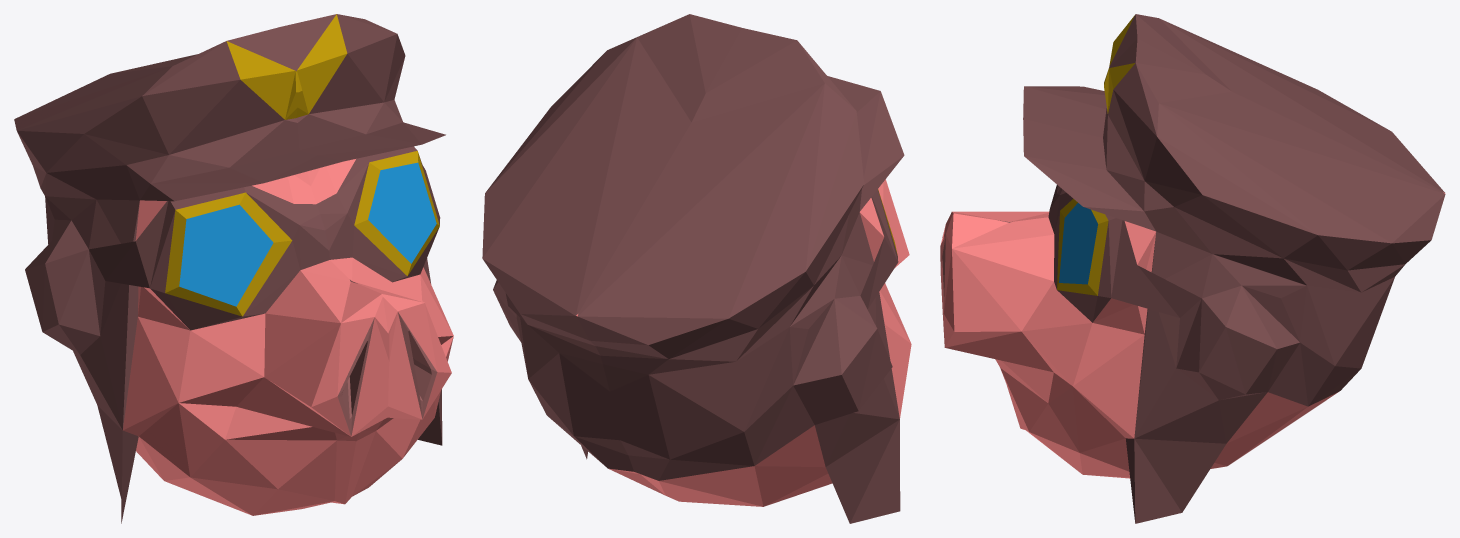
Rendered from cerdopro.fbx.
The picture shows the model from 3 angles, left to right: view 1: azimuth 30°, elevation 25°; view 2: azimuth 150°, elevation 25°; view 3: azimuth 270°, elevation 25°; orthographic projection. The views are drawn at different scales.
Parts seen in each view (by area): view 1: material_derecha; view 2: material_derecha; view 3: material_derecha.
Boxes of the visible parts, <box> form: material_derecha: <box>14,14,453,523</box>; material_derecha: <box>482,14,911,523</box>; material_derecha: <box>940,14,1445,523</box>.
Bounding box in the file's own units: 84.2 × 101 × 108.
